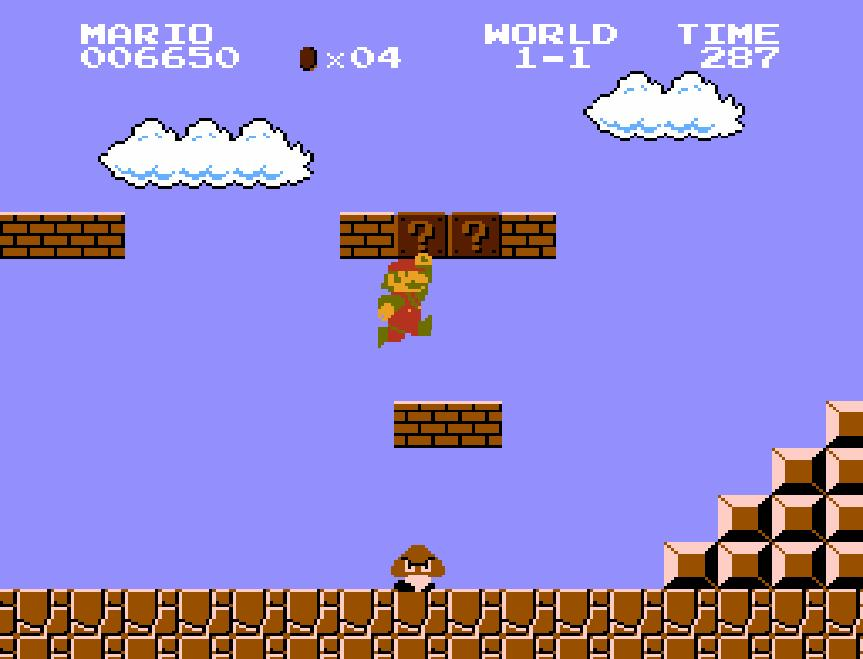big_mario: (376, 251, 434, 349)
